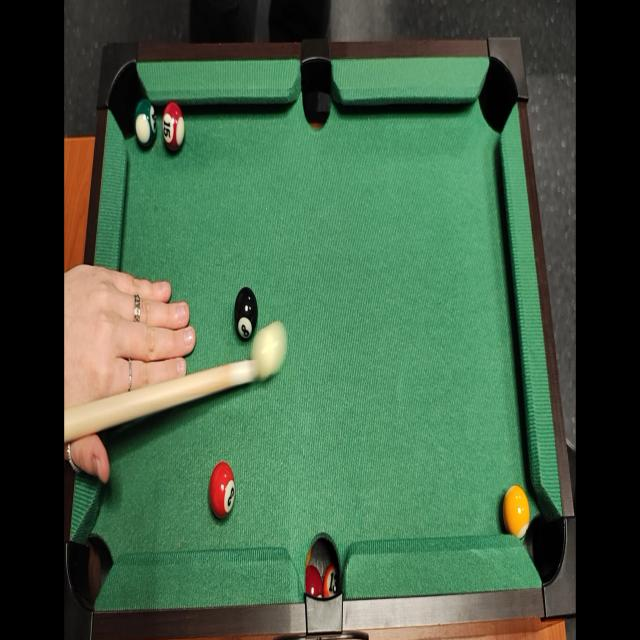cue ball: (248, 323, 291, 374)
other: (498, 482, 530, 544), (209, 458, 238, 522), (161, 101, 187, 157), (234, 283, 257, 343), (132, 98, 156, 150)
